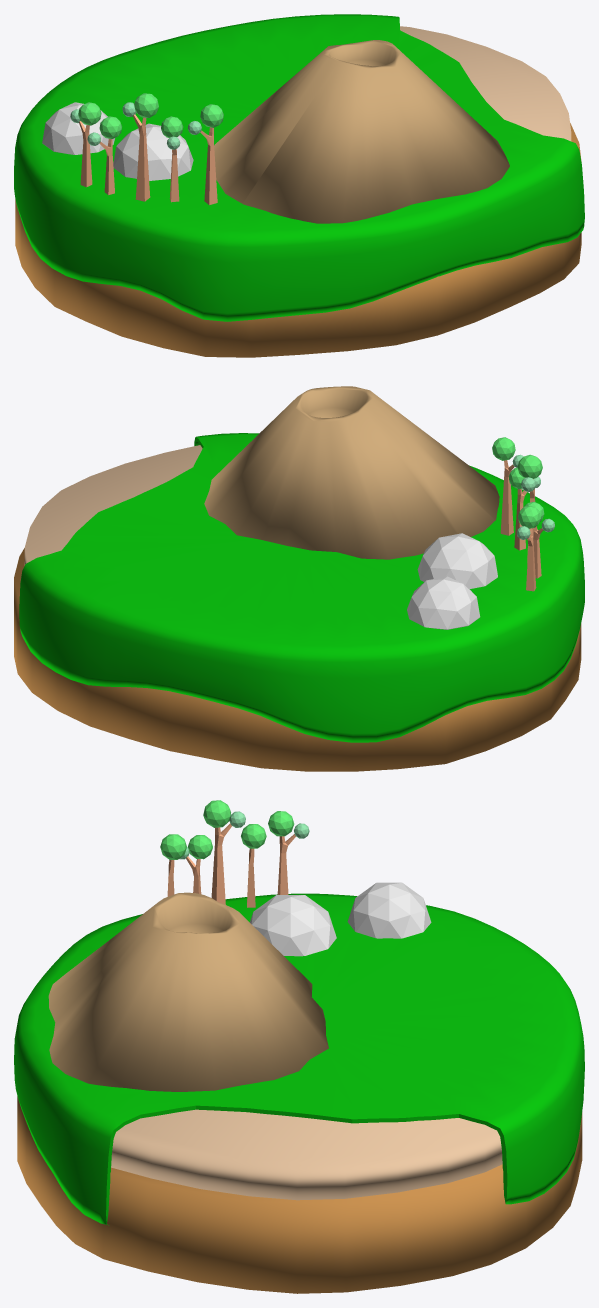
File: mm_earth.glb
The picture shows the model from 3 angles, top to bottom: view 1: azimuth 30°, elevation 25°; view 2: azimuth 150°, elevation 25°; view 3: azimuth 270°, elevation 25°; orthographic projection. The views are drawn at different scales.
Parts seen in each view (by area): view 1: Glass, Omuroyama, Base, BaseTop, Icosphere.002, Icosphere.001, Tree.002, Tree, Tree.004, Tree.003, Tree.001; view 2: Glass, Omuroyama, Base, BaseTop, Icosphere.002, Icosphere.001, Tree, Tree.004, Tree.002, Tree.001, Tree.003; view 3: Glass, Base, Omuroyama, BaseTop, Icosphere.002, Icosphere.001, Tree.002, Tree.004, Tree.003, Tree.001, Tree.
Part boxes in pixels (<box>): Glass: <box>14,14,584,321</box>; Omuroyama: <box>214,40,509,223</box>; Base: <box>15,123,581,357</box>; BaseTop: <box>400,26,571,141</box>; Icosphere.002: <box>113,123,193,180</box>; Icosphere.001: <box>42,102,114,154</box>; Tree.002: <box>122,93,158,201</box>; Tree: <box>187,104,223,204</box>; Tree.004: <box>70,102,101,187</box>; Tree.003: <box>87,116,121,194</box>; Tree.001: <box>161,116,183,202</box>; Glass: <box>19,433,584,742</box>; Omuroyama: <box>204,386,499,559</box>; Base: <box>14,548,581,771</box>; BaseTop: <box>24,445,202,565</box>; Icosphere.002: <box>417,533,497,588</box>; Icosphere.001: <box>407,576,480,629</box>; Tree: <box>492,437,523,535</box>; Tree.004: <box>517,505,540,591</box>; Tree.002: <box>517,454,542,562</box>; Tree.001: <box>509,467,540,550</box>; Tree.003: <box>524,501,554,578</box>; Glass: <box>14,893,584,1225</box>; Base: <box>17,1096,582,1293</box>; Omuroyama: <box>48,892,328,1091</box>; BaseTop: <box>111,1109,502,1200</box>; Icosphere.002: <box>250,895,336,956</box>; Icosphere.001: <box>347,882,431,938</box>; Tree.002: <box>203,800,245,904</box>; Tree.004: <box>268,811,309,894</box>; Tree.003: <box>241,824,266,907</box>; Tree.001: <box>179,835,212,894</box>; Tree: <box>160,834,186,896</box>.
Size of the model in its own units: 20.05 by 8.63 by 17.61.
